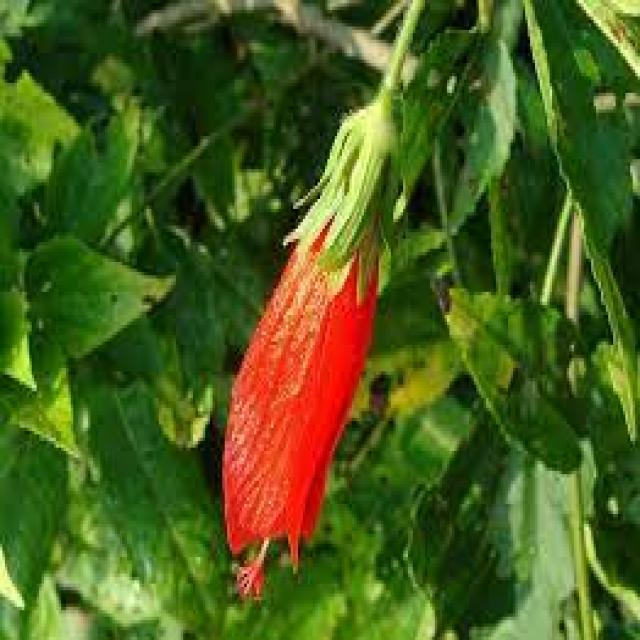Flower: (208, 93, 423, 600)
